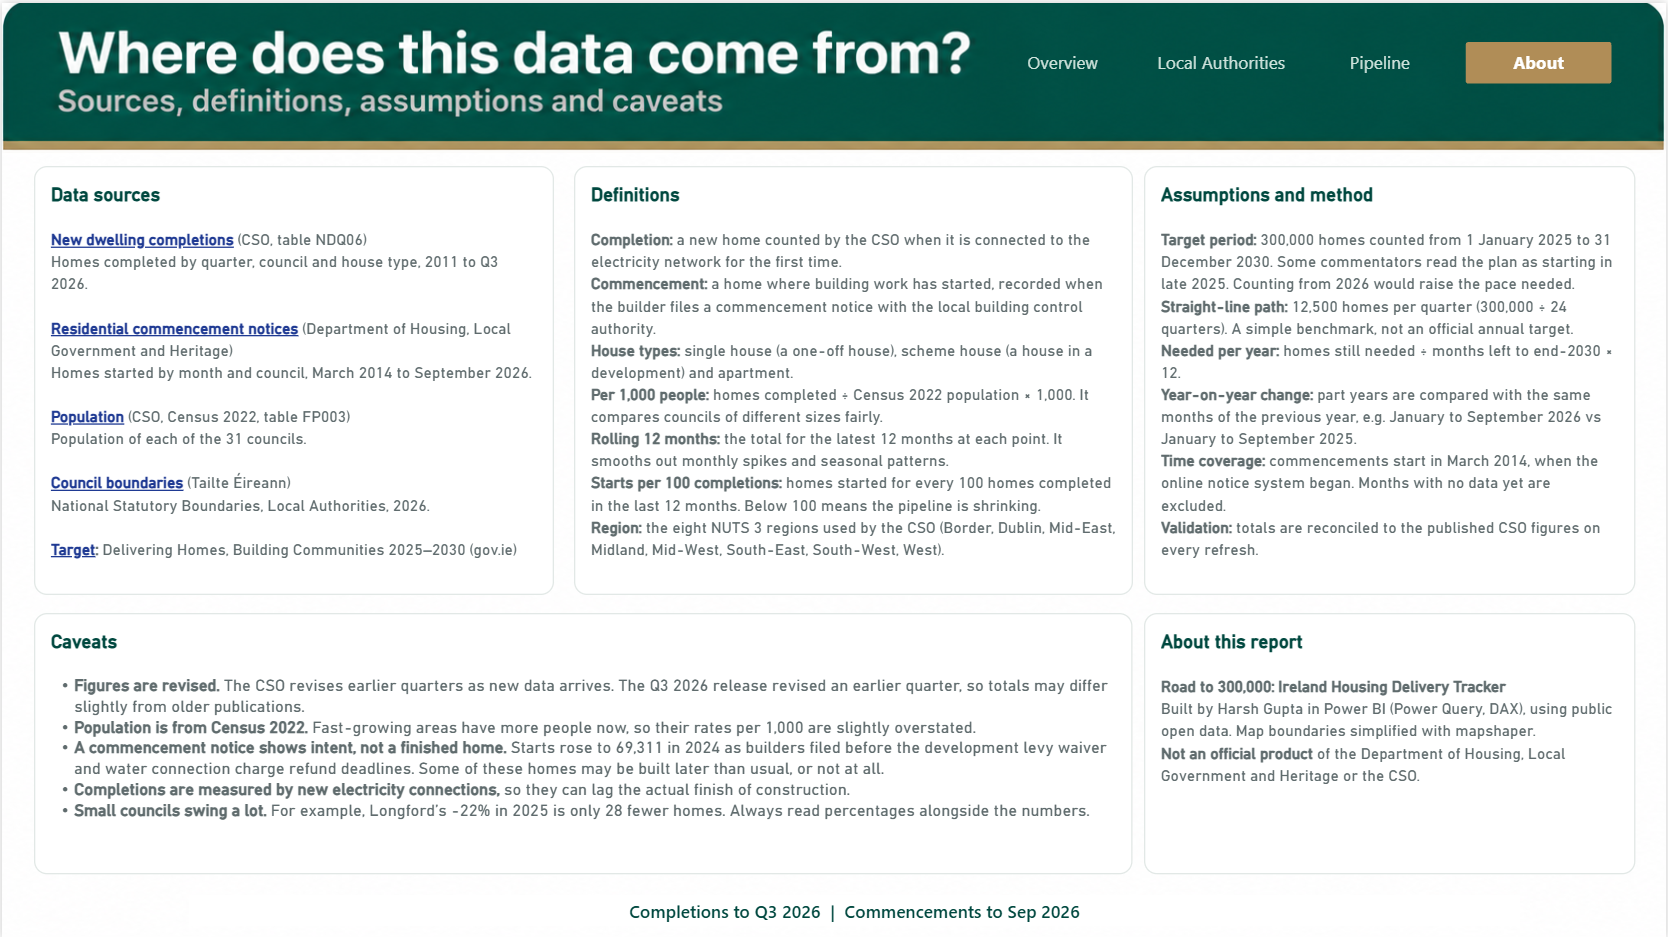

This screenshot's page, from the dashboard's own definition file:
{"tool":"powerbi","page":{"name":"About","canvas":[1280,720],"ordinal":3},"visuals":[{"type":"card","fields":{"Values":["_Measures.Data Note"]},"box":[144,686,1024,24],"z":0},{"type":"textbox","box":[24.5,125.5,399.6,330.4],"z":1000},{"type":"textbox","box":[440,125.5,430,330.4],"z":2000},{"type":"textbox","box":[878.6,125.5,378,330.4],"z":3000},{"type":"textbox","box":[24.5,468.9,845.5,200.5],"z":4000},{"type":"textbox","box":[878.6,468.9,378,200.5],"z":5000},{"type":"pageNavigator","box":[760,30,480,32],"z":6000}]}

Visuals, with their boxes in screenshot pixels (x1, y1, x2, y2), scaled from the page's 1280x720 canvas onto the 1668x937 screenshot:
card - _Measures.Data Note: box=[188, 893, 1522, 924]
textbox: box=[32, 163, 553, 593]
textbox: box=[573, 163, 1134, 593]
textbox: box=[1145, 163, 1638, 593]
textbox: box=[32, 610, 1134, 871]
textbox: box=[1145, 610, 1638, 871]
pageNavigator: box=[990, 39, 1616, 81]
